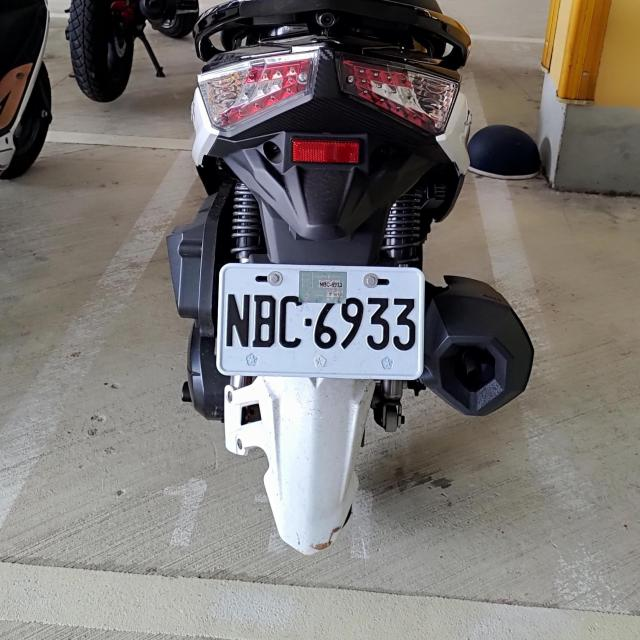W: (216, 260, 422, 379)
